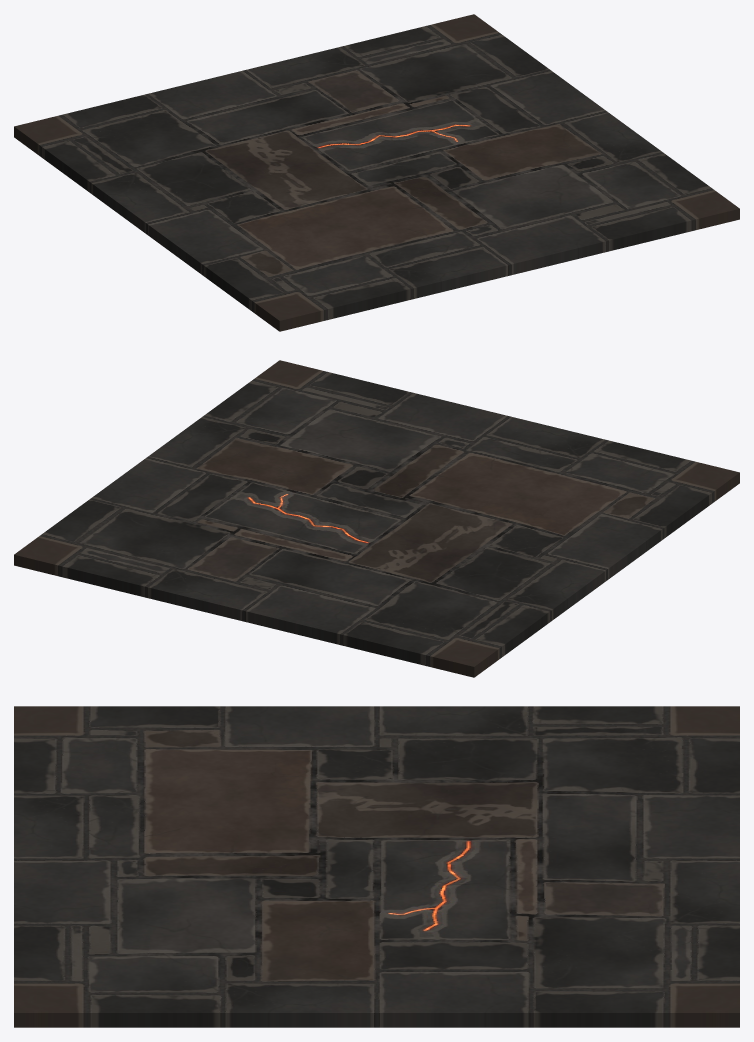
File: hellforge_floor_a.glb
3 renders of one model, top to bottom at view 1: azimuth 30°, elevation 25°; view 2: azimuth 150°, elevation 25°; view 3: azimuth 270°, elevation 25°, orthographic. The views are drawn at different scales.
Visible parts, largest first — view 1: hellforge_floor_a; view 2: hellforge_floor_a; view 3: hellforge_floor_a.
Boxes of the visible parts, x1=… form: hellforge_floor_a: x1=14, y1=14, x2=739, y2=331; hellforge_floor_a: x1=14, y1=360, x2=739, y2=677; hellforge_floor_a: x1=14, y1=706, x2=739, y2=1027.
Bounding box in the file's own units: 4 × 0.1068 × 4.
Materials: 1 (1 with a texture image).
